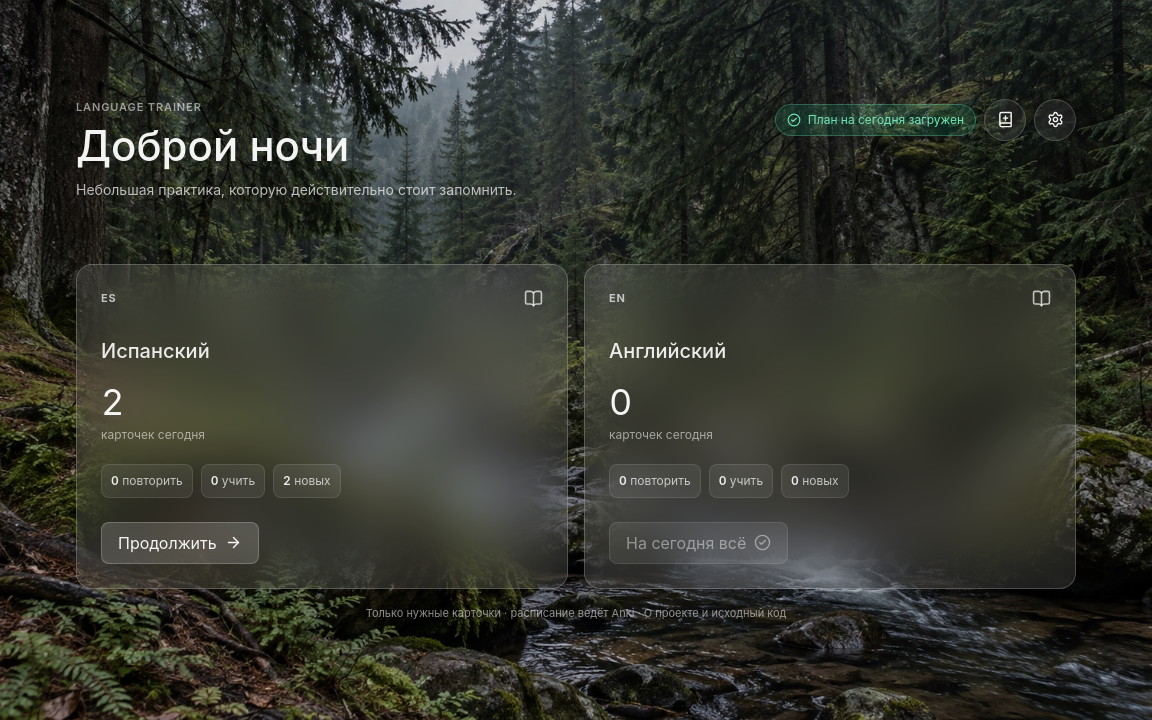
Language Trainer › checks typed input before it enables explicit ratings
This screenshot has width=1152, height=720.
Click the button "Продолжить": (180, 543) [101,522,259,564]
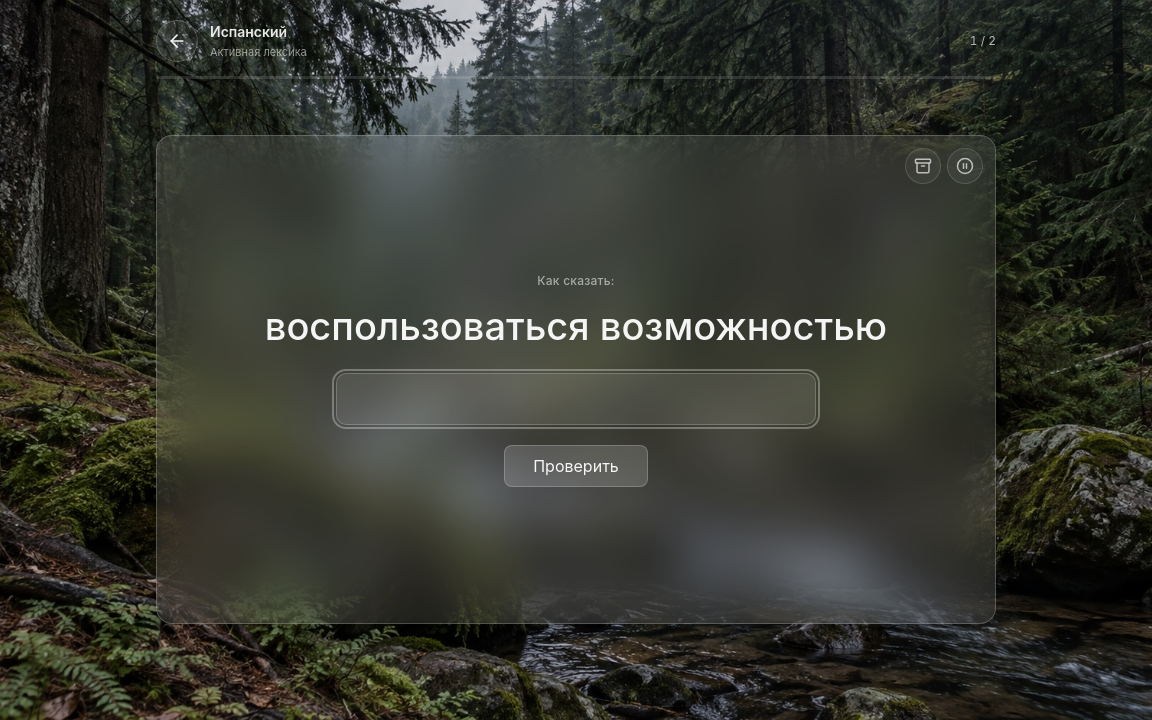
In the field named "Ваш ответ": (576, 399) [336,373,816,425], type "aprovechar"
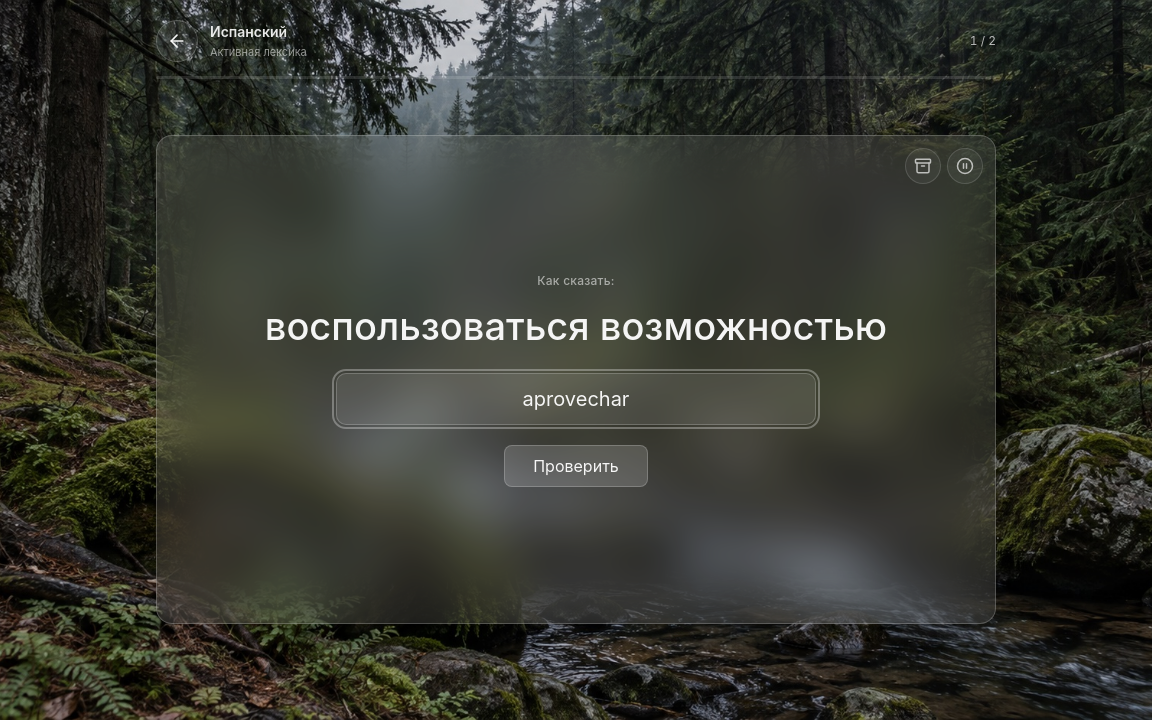
Press Enter in the field named "Ваш ответ", box [336,373,816,425]
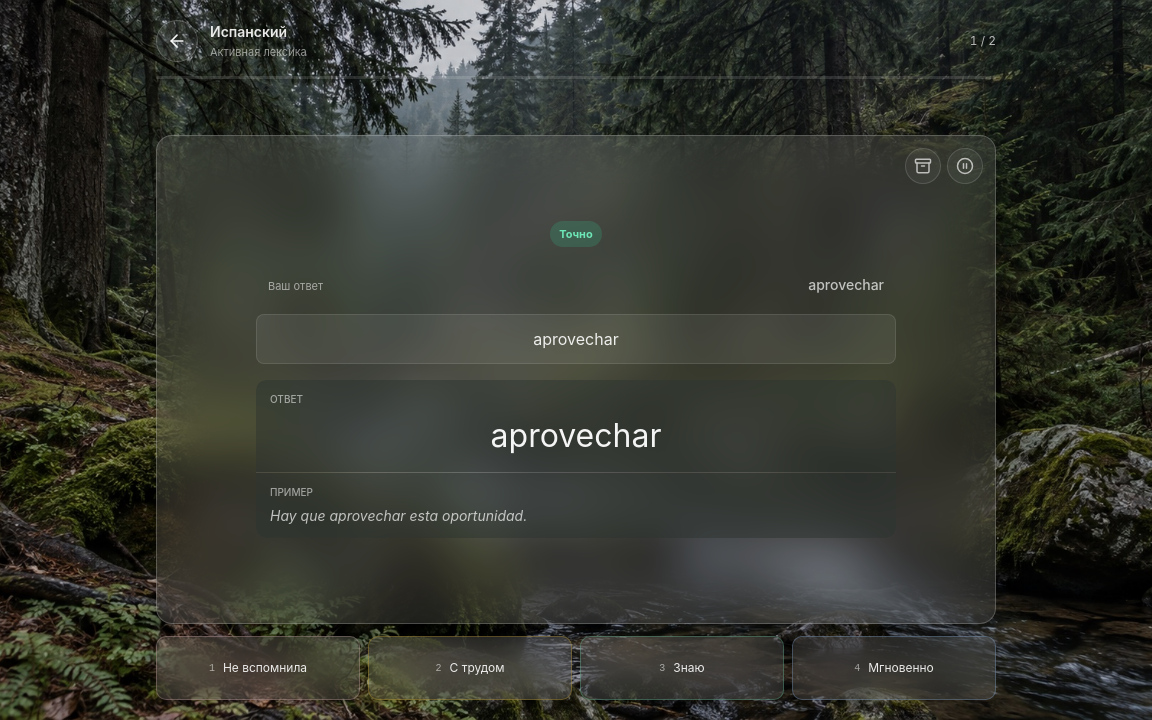
Check: the text "Hay que aprovechar esta oportunidad." is shown, box [270,507,527,524]
Check: the button "3 Знаю" is enabled, box [580,636,784,700]
Press 3
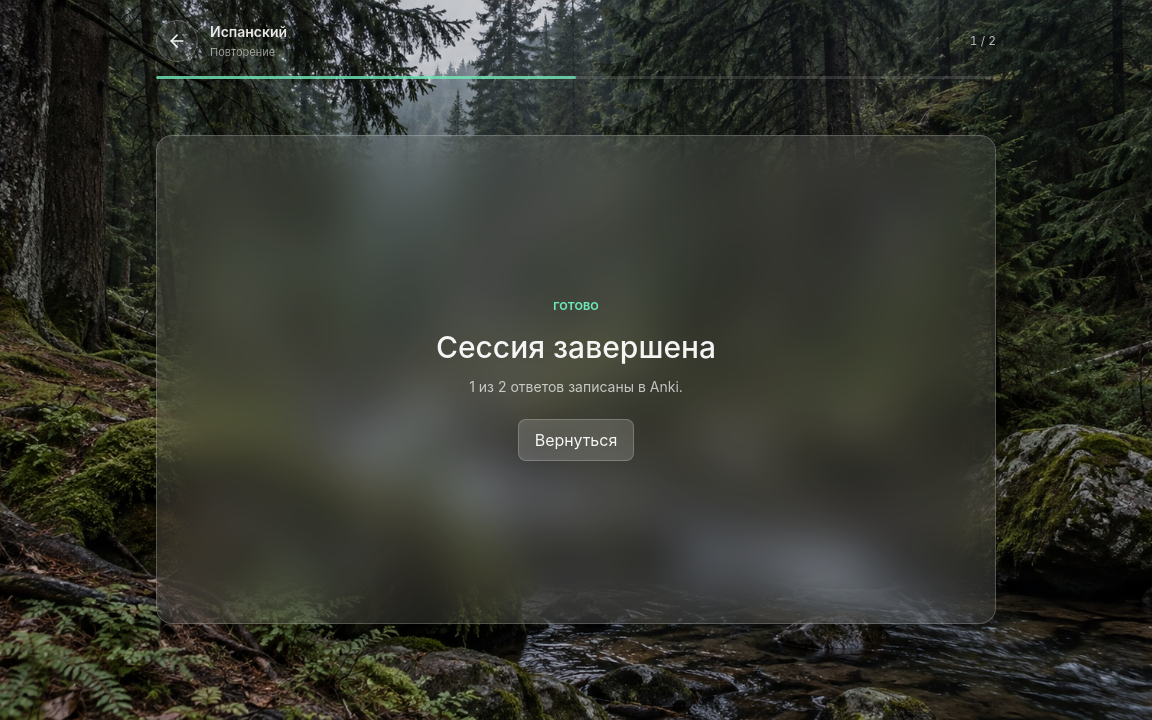
Check: the heading "Сессия завершена" is shown, box [436,325,716,370]
